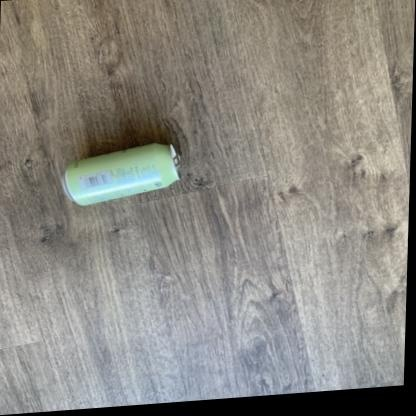trash: (65, 143, 178, 205)
